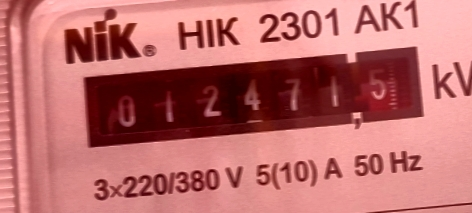0: (113, 92, 139, 130)
1: (162, 89, 176, 125), (327, 73, 340, 110)
2: (200, 83, 223, 120)
4: (241, 77, 262, 114)
5: (366, 64, 390, 104)
7: (281, 75, 304, 115)
screen: (72, 37, 436, 158)
